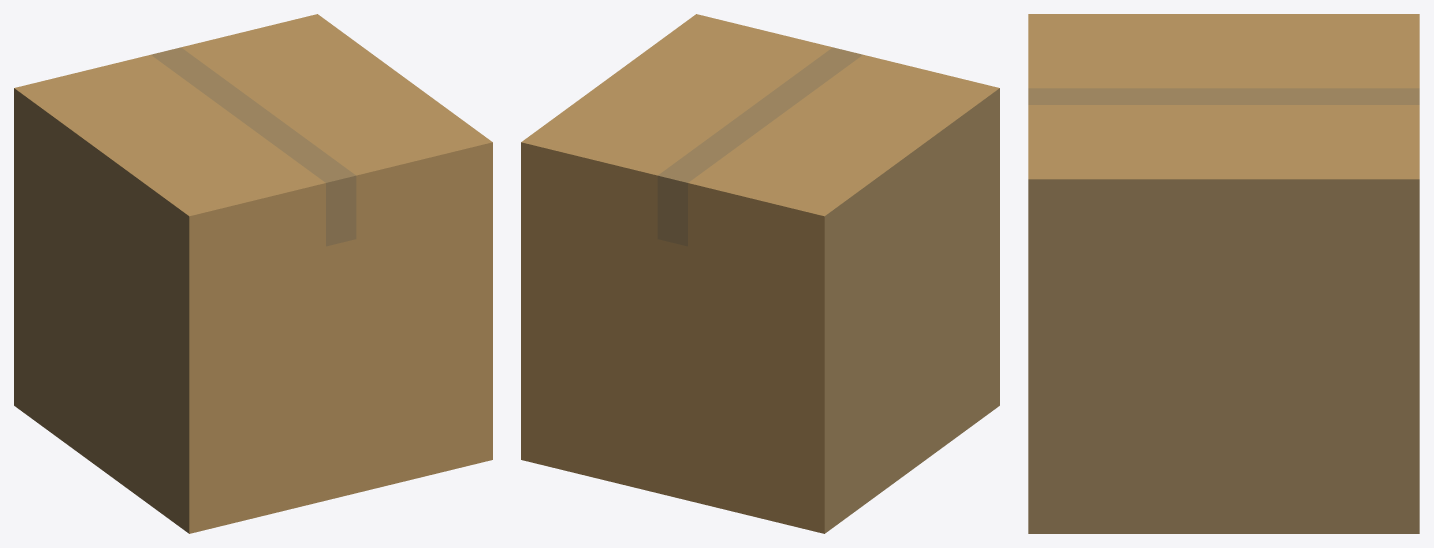
3 views of the same model, side by side, from view 1: azimuth 30°, elevation 25°; view 2: azimuth 150°, elevation 25°; view 3: azimuth 270°, elevation 25° (orthographic). The views are drawn at different scales.
Visible parts, largest first — view 1: group_0 (×3); view 2: group_0 (×3); view 3: group_0 (×3).
Part boxes in pixels (x1=…): group_0 (×3): x1=14, y1=14, x2=492, y2=533; group_0 (×3): x1=521, y1=14, x2=999, y2=533; group_0 (×3): x1=1028, y1=14, x2=1419, y2=533.
Size of the model in its own units: 39.37 by 39.37 by 39.37.
